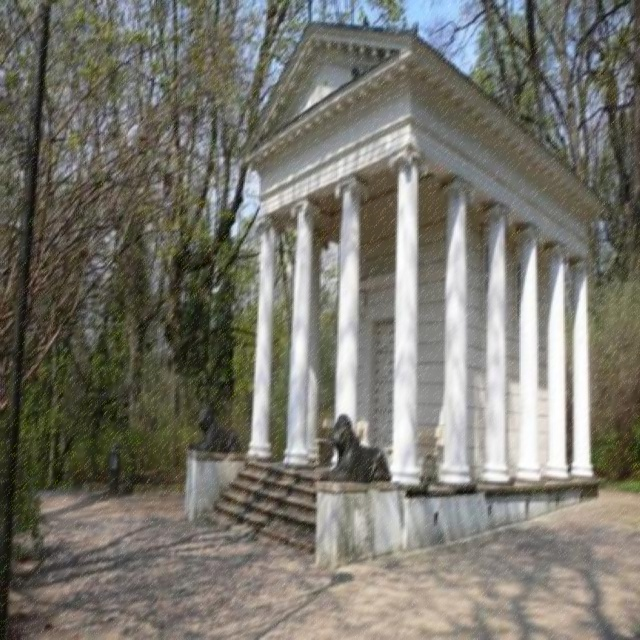stair: (205, 462, 325, 558)
